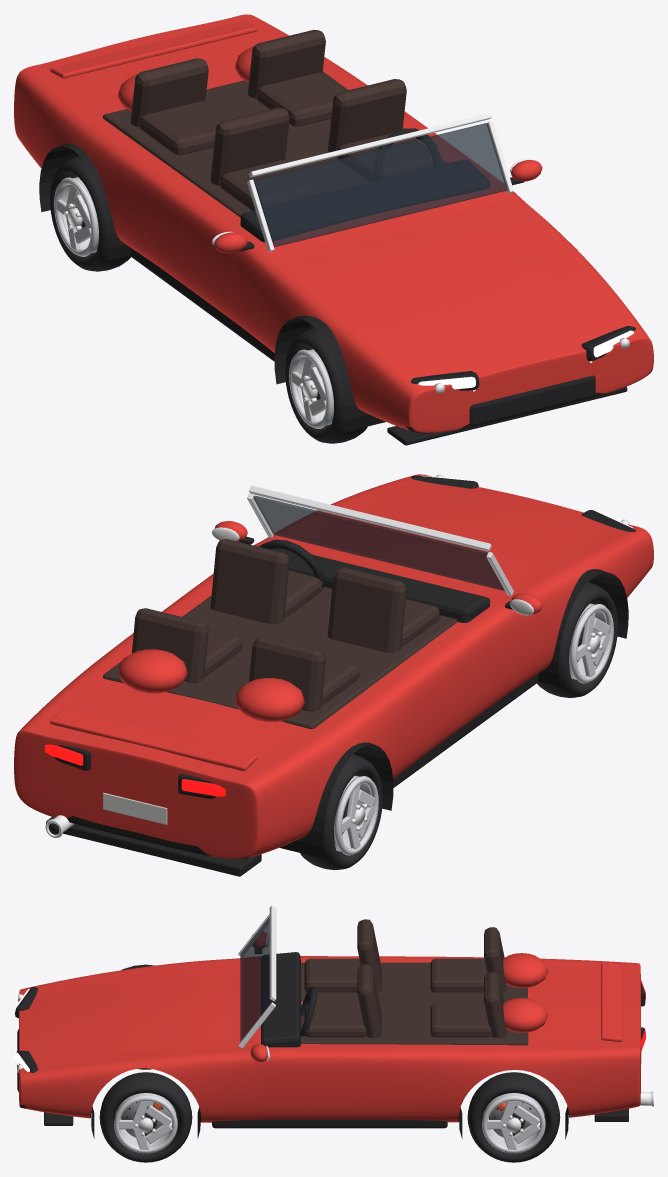
The model's file is zephyra.glb.
3 views of the same model, one above another, from view 1: azimuth 30°, elevation 25°; view 2: azimuth 150°, elevation 25°; view 3: azimuth 270°, elevation 25° (orthographic). The views are drawn at different scales.
Parts seen in each view (by area): view 1: body, wheel_fr, wheel_rr; view 2: body, wheel_rr, wheel_fr; view 3: body, wheel_rl, wheel_fl.
Boxes of the visible parts, <box> form: body: <box>14,14,653,445</box>; wheel_fr: <box>285,328,367,443</box>; wheel_rr: <box>50,155,130,271</box>; body: <box>14,474,653,876</box>; wheel_rr: <box>300,754,382,870</box>; wheel_fr: <box>537,582,617,697</box>; body: <box>14,905,653,1139</box>; wheel_rl: <box>467,1072,560,1162</box>; wheel_fl: <box>99,1072,192,1162</box>.
Bounding box in the file's own units: 2.23 × 1.35 × 4.84.
